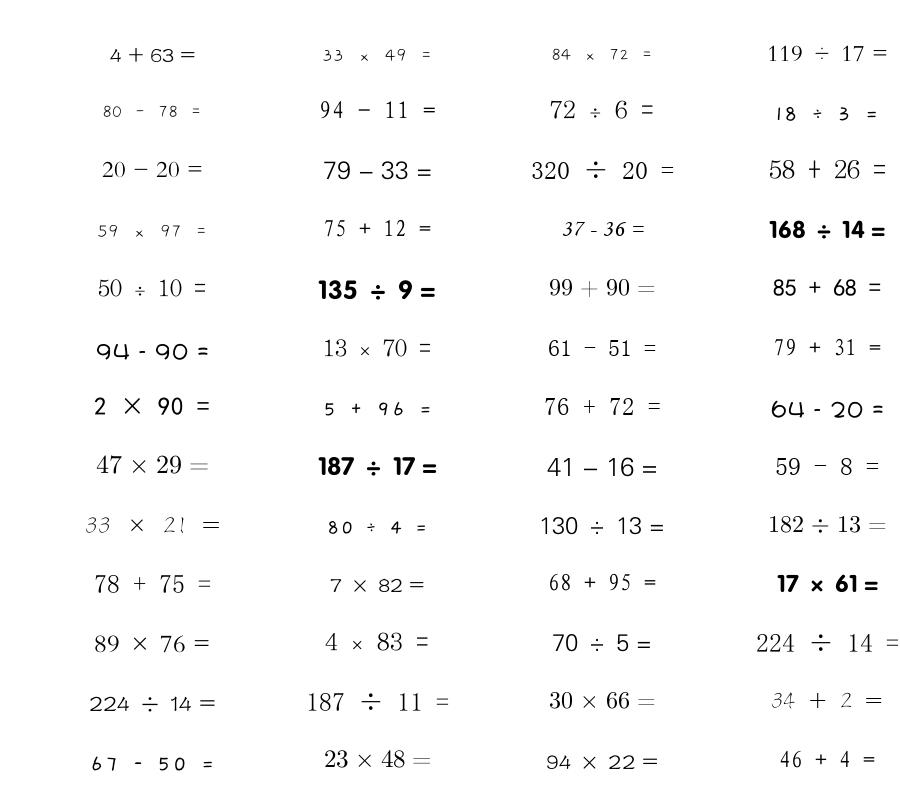MQ: (756, 633, 899, 652), (306, 692, 449, 711), (531, 161, 674, 179), (318, 456, 437, 476), (318, 280, 436, 300), (769, 159, 886, 179), (85, 517, 220, 534), (539, 517, 665, 535), (547, 457, 658, 477), (769, 220, 885, 239), (94, 397, 210, 416), (96, 455, 209, 474), (768, 515, 887, 533), (319, 101, 436, 119), (94, 575, 211, 593), (94, 635, 210, 653), (323, 161, 432, 180), (767, 45, 888, 62), (771, 400, 884, 418), (549, 278, 656, 297), (89, 696, 216, 712), (544, 398, 661, 415), (550, 100, 654, 119), (325, 632, 429, 651), (323, 219, 431, 237), (98, 279, 206, 297), (323, 339, 431, 357), (773, 338, 881, 356), (548, 573, 656, 591), (549, 691, 656, 709), (324, 750, 431, 768), (96, 343, 209, 360), (777, 574, 878, 593), (771, 692, 883, 709), (89, 756, 215, 771), (773, 279, 881, 296), (552, 634, 652, 652), (775, 458, 879, 475), (548, 340, 656, 356), (779, 750, 875, 768), (102, 161, 203, 178), (546, 755, 658, 770), (775, 106, 879, 121), (322, 48, 433, 62), (97, 224, 208, 238), (322, 402, 432, 416), (110, 47, 195, 63), (551, 48, 653, 61), (326, 521, 428, 534), (330, 578, 424, 592), (102, 105, 202, 118), (561, 221, 644, 236)
